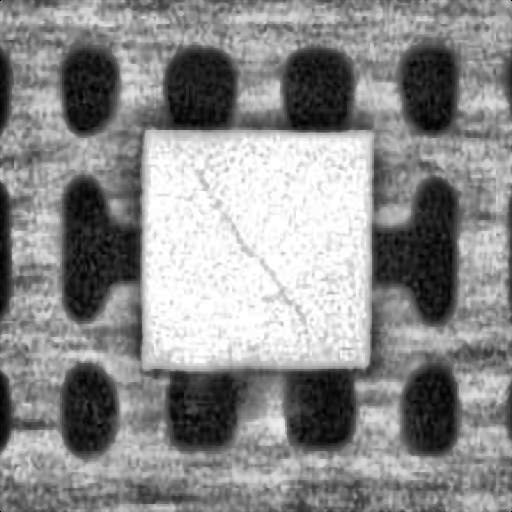DIE_CRACK: (193, 172, 305, 324)
